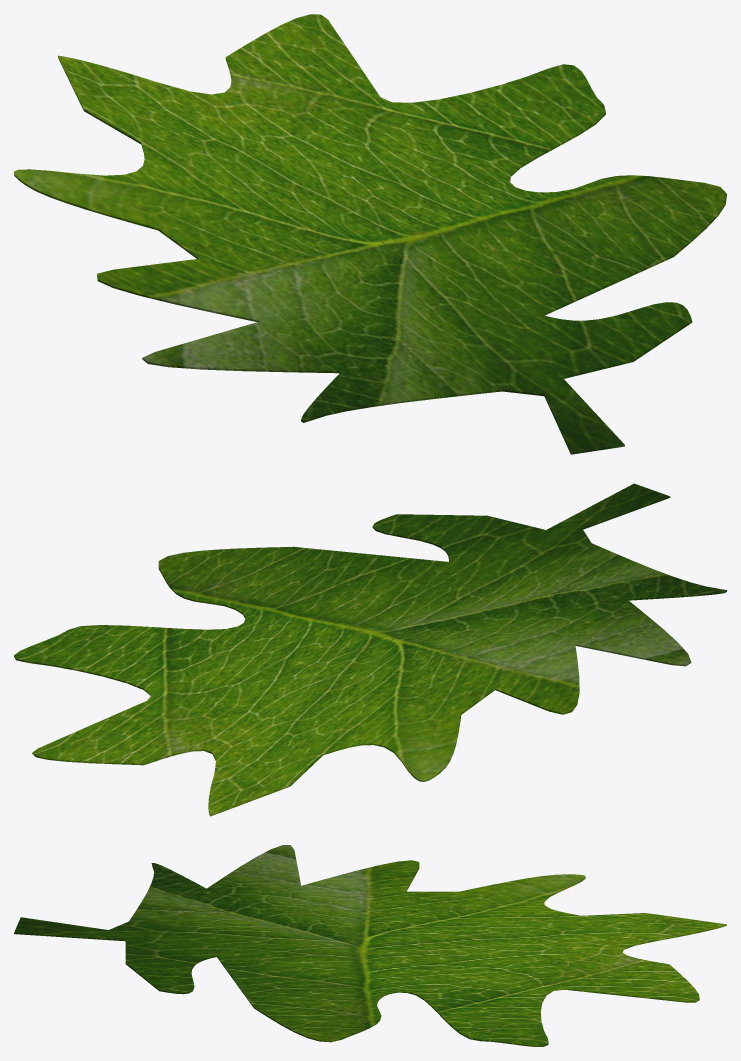
The model's file is leaf.obj.
3 views of the same model, one above another, from view 1: azimuth 30°, elevation 25°; view 2: azimuth 150°, elevation 25°; view 3: azimuth 270°, elevation 25° (orthographic). The views are drawn at different scales.
Parts seen in each view (by area): view 1: Line01; view 2: Line01; view 3: Line01.
Part boxes in pixels (left/top/right/bottom): Line01: left=14, top=14, right=726, bottom=454; Line01: left=14, top=483, right=726, bottom=816; Line01: left=14, top=845, right=726, bottom=1046.
Bounding box in the file's own units: 20.89 × 0.058 × 31.35.
1 material, 1 textured.
